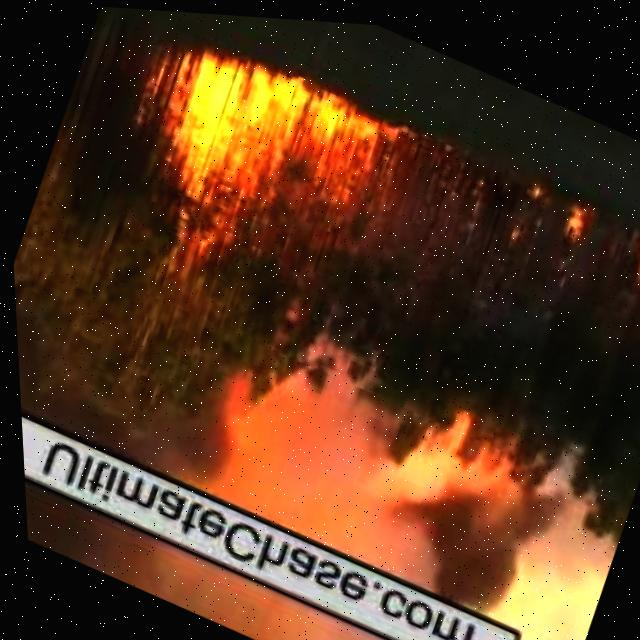Fire: (147, 27, 405, 252), (549, 190, 593, 248), (622, 224, 640, 301)
Smoke: (7, 171, 640, 640)
